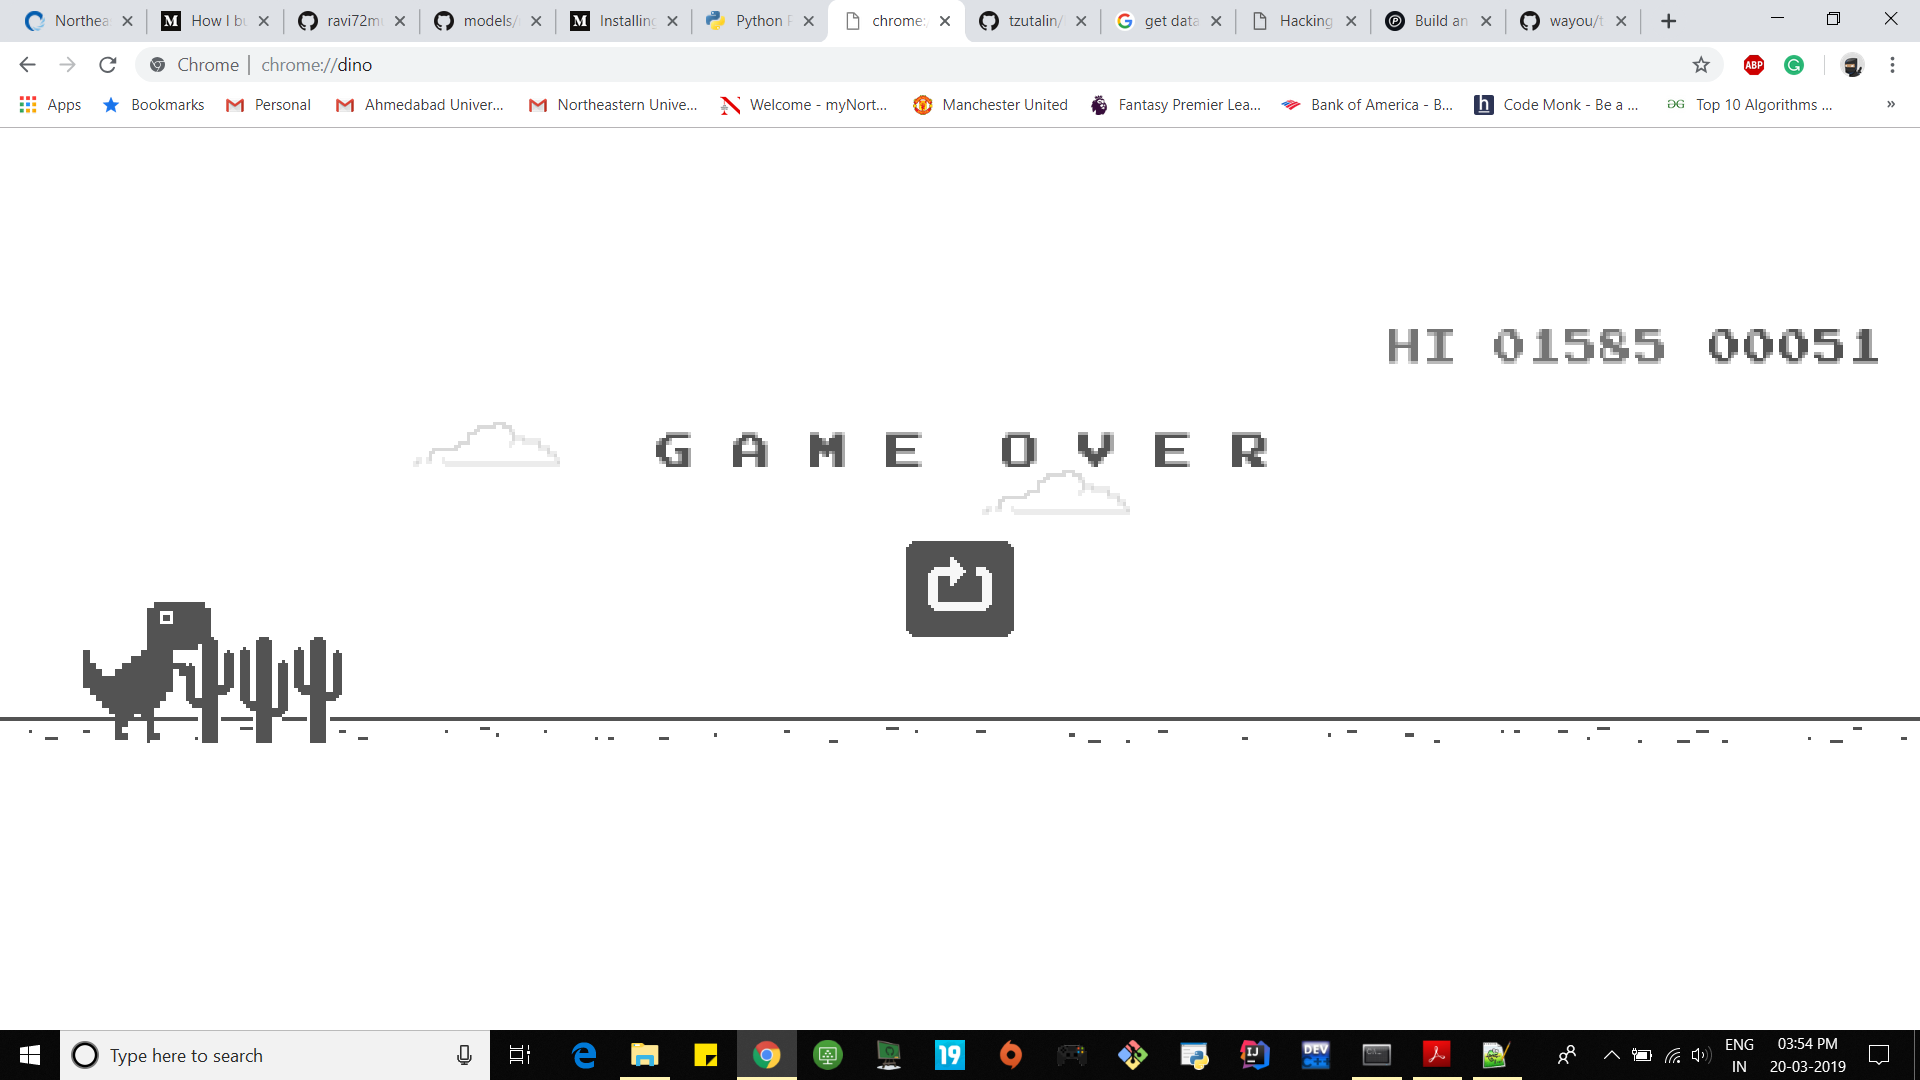cactus-3: (181, 636, 345, 742)
dino: (80, 601, 210, 738)
gameover: (905, 542, 1015, 636)
